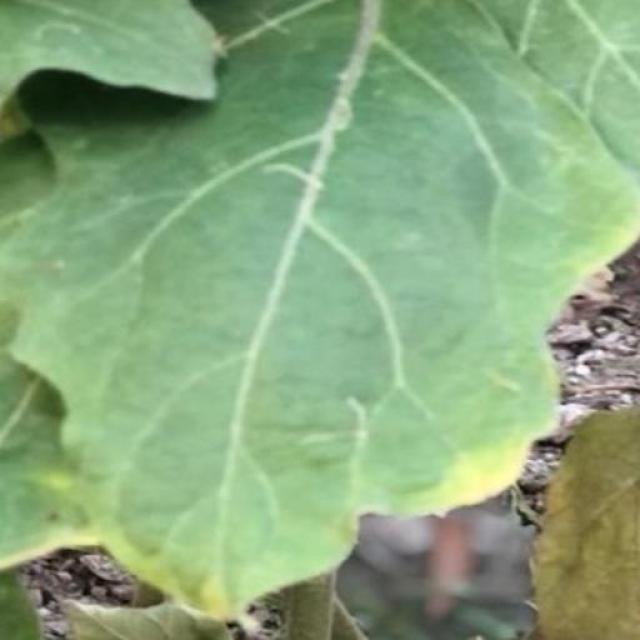leaf_spot: (406, 426, 538, 490), (18, 458, 96, 506)
